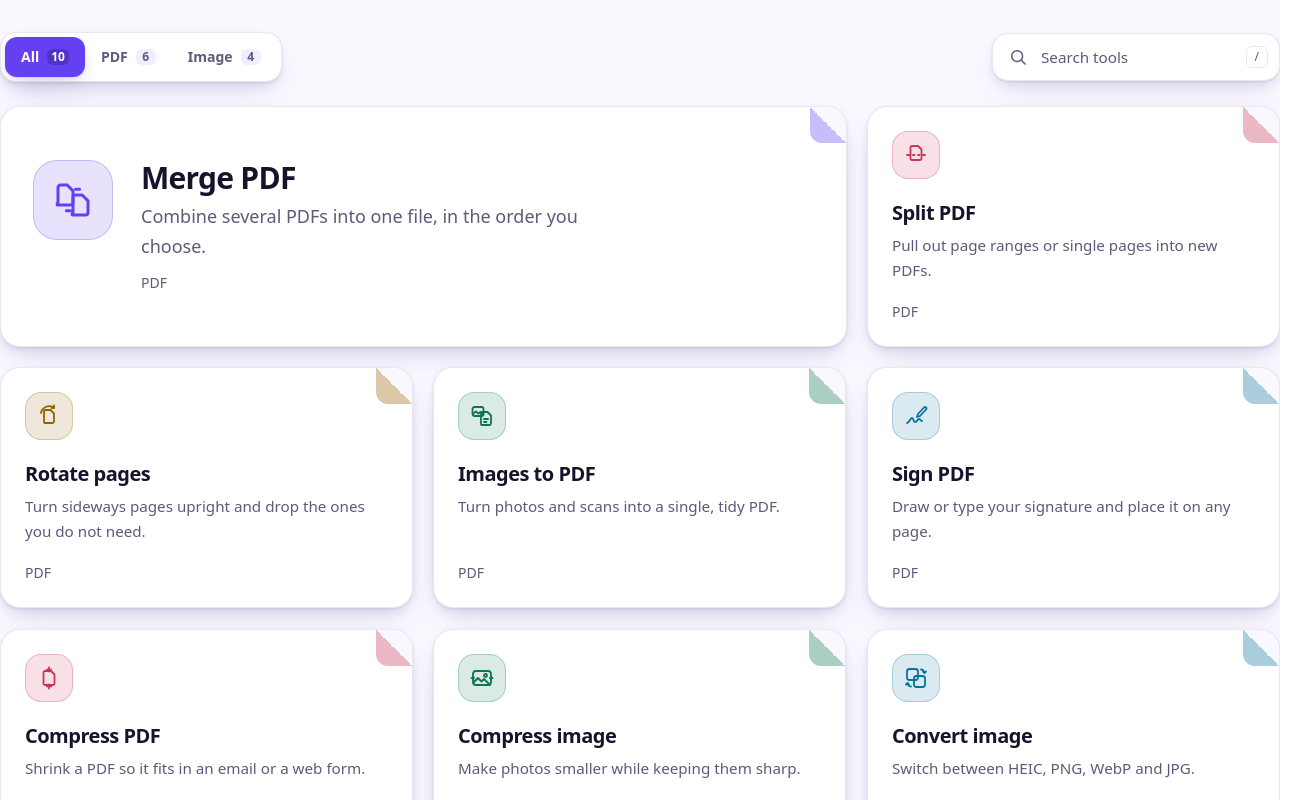
Test case: ToolBrowser › clears the search with Escape or the clear button
Step 1. Type "merge" into the search field → (1136, 57), box [992, 33, 1280, 81]
Then press Escape
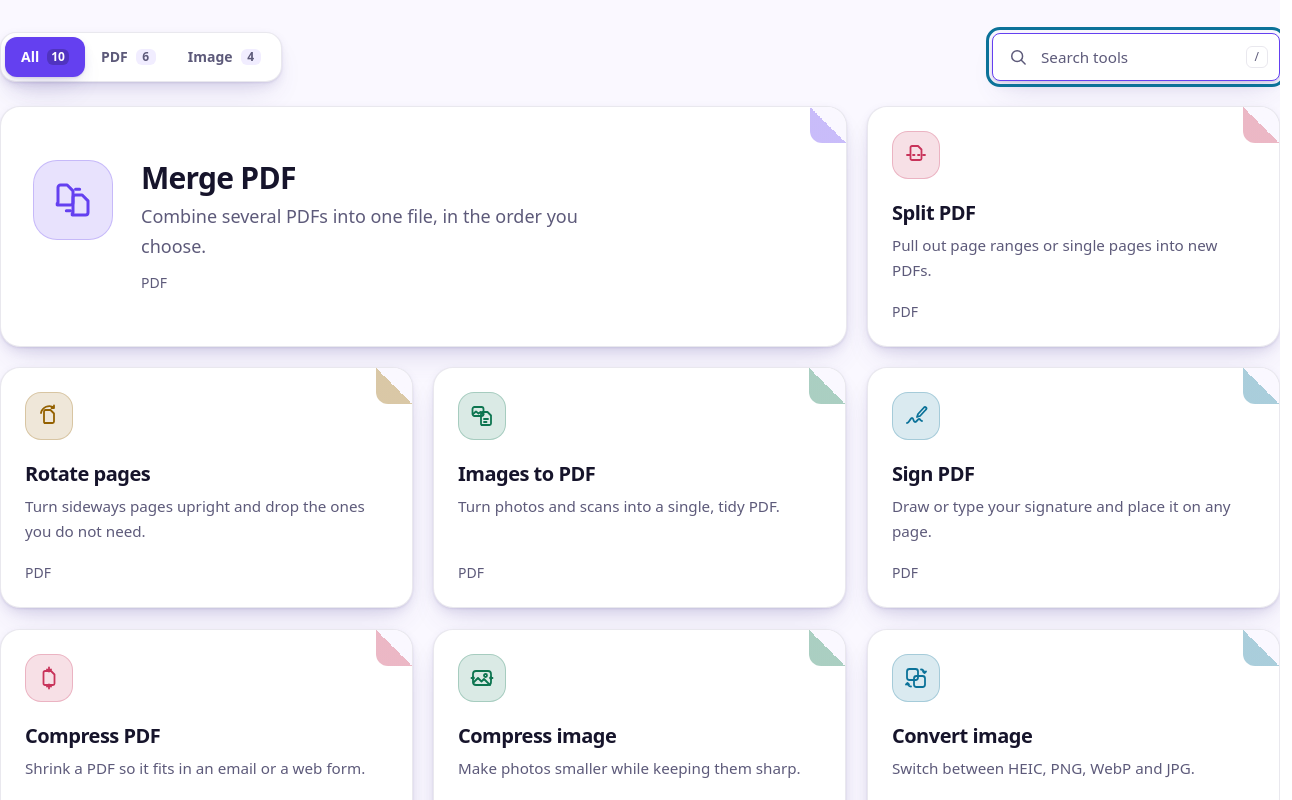
Step 2. Type "sign" into the search field → (1136, 57), box [992, 33, 1280, 81]
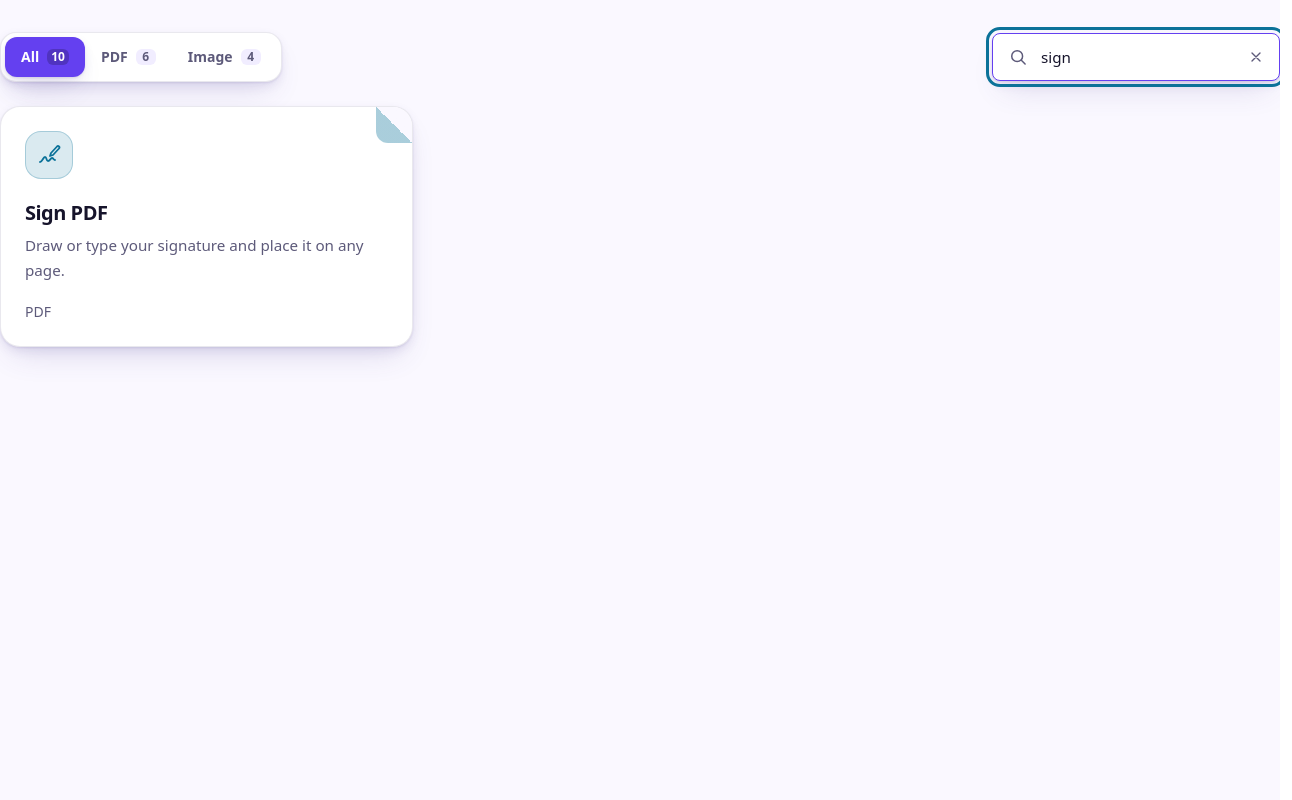
Step 3. Click the button named "clear search" → (1256, 57), box [1240, 41, 1272, 73]
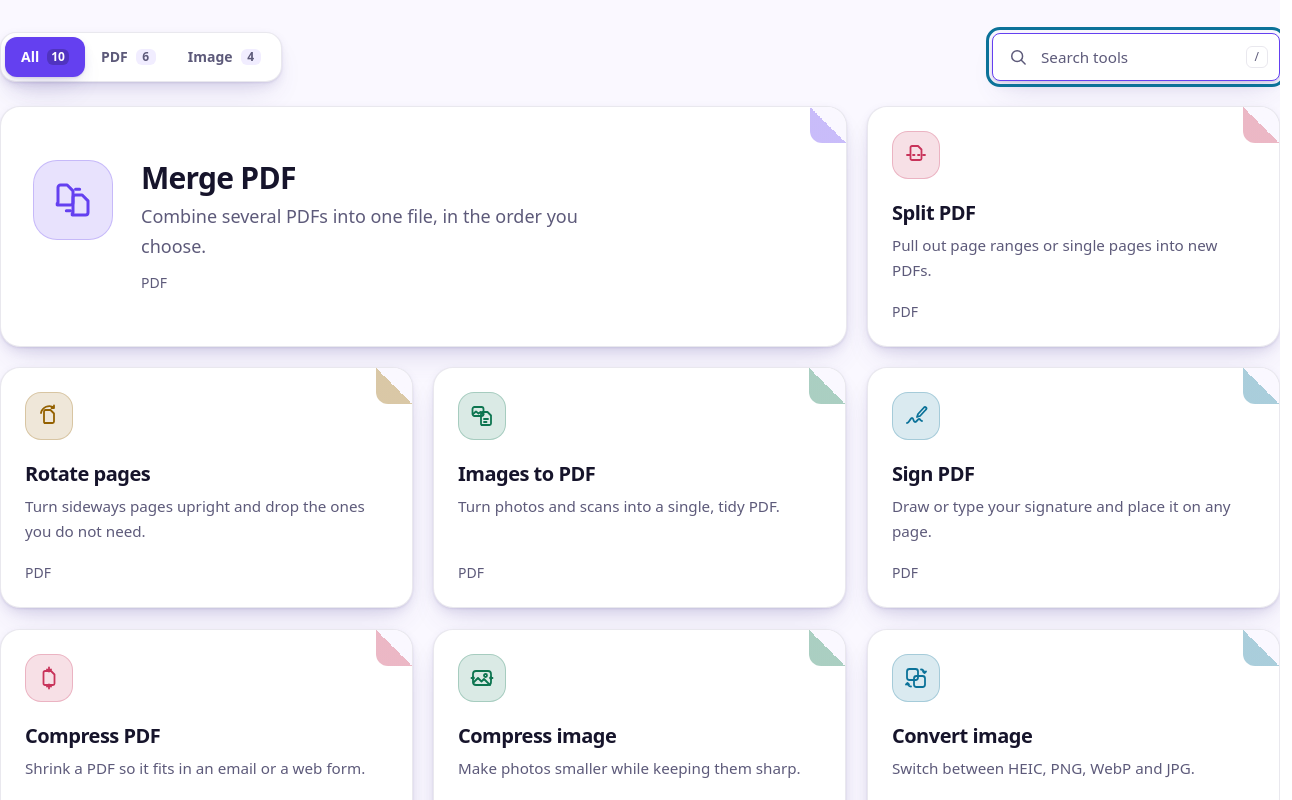
Now the search field is empty, box [992, 33, 1280, 81]
